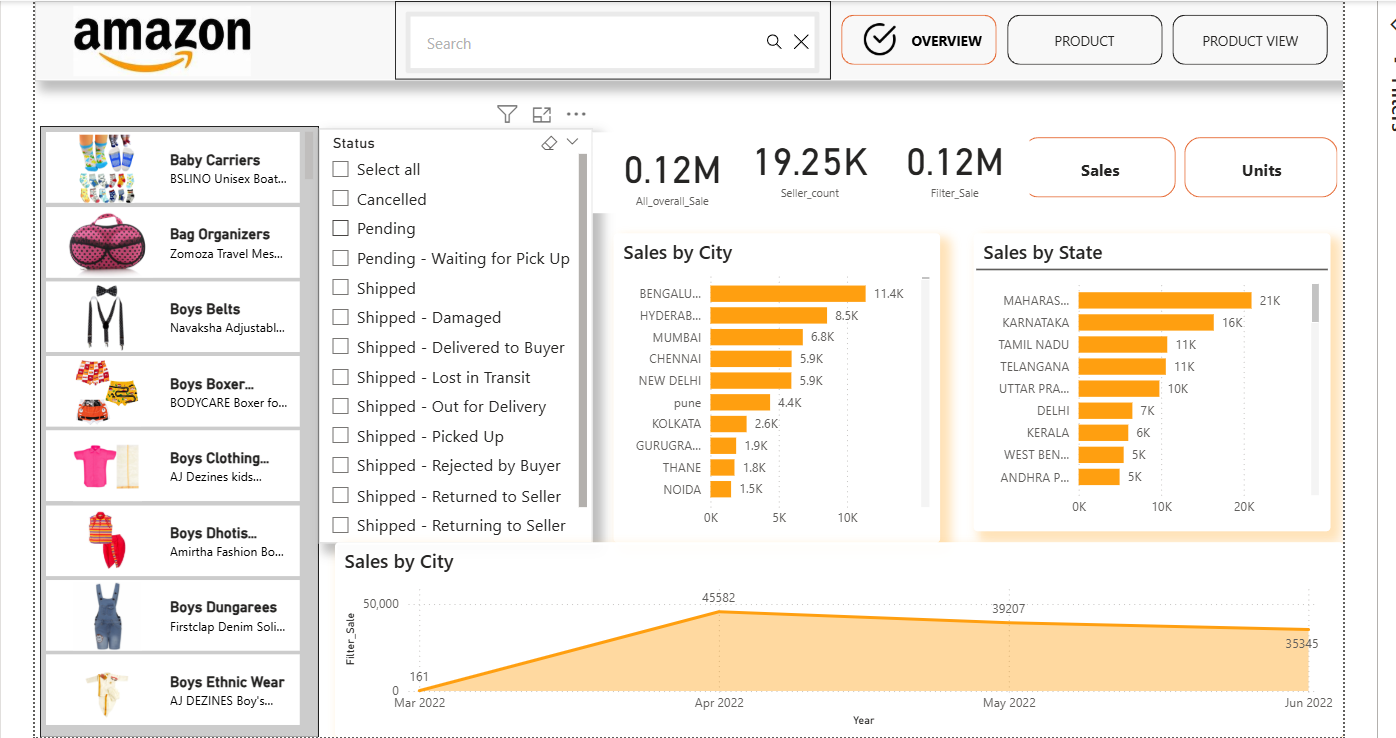

The page's visual inventory and layout, read from the dashboard file:
{"tool":"powerbi","page":{"name":"OVERVIEW","canvas":[1280,720],"ordinal":0},"visuals":[{"type":"advancedSlicerVisual","fields":{"Values":["amazon-fashion - YT.Category"]},"box":[5.5,122.1,273.1,598.3],"z":0},{"type":"shape","box":[0,0,1280.3,78.2],"z":1000},{"type":"image","box":[0,0,248.4,78.2],"z":2000},{"type":"pageNavigator","box":[789,13.7,477.5,49.4],"z":3000},{"type":"image","box":[789,13.7,75.5,48],"z":4000},{"type":"textSearchSlicerF85E2E78BE4A4D7D9F99ED75B5D71C85","fields":{"fields":["amazon-fashion - YT.Category"]},"box":[352.7,0,426.8,76.8],"z":5000},{"type":"slicer","fields":{"Values":["Amazon.Status"]},"box":[277.6,124.7,267.8,406],"z":6000},{"type":"advancedSlicerVisual","fields":{"Values":["Sale_Option.Name"]},"box":[961.1,128.4,319.2,69.7],"z":7000},{"type":"barChart","title":"Sales by City","fields":{"Y":["Amazon.Filter_Sale"],"Category":["Amazon.ship-city"]},"box":[566.2,227.4,319.2,302],"z":8000},{"type":"barChart","title":"Sales by State","fields":{"Category":["Amazon.ship-state"],"Y":["Amazon.Filter_Sale"]},"box":[918.3,227.4,348.5,291],"z":9000},{"type":"areaChart","title":"Sales by City","fields":{"Category":["Amazon.Date.Variation.Date Hierarchy.Year","Amazon.Date.Variation.Date Hierarchy.Month"],"Y":["Amazon.Filter_Sale"]},"box":[293.7,529.7,986.6,190.7],"z":10000},{"type":"card","fields":{"Values":["Amazon.All_overall_Sale"]},"box":[545.4,128.4,156.5,79.5],"z":11000},{"type":"card","fields":{"Values":["Amazon.Filter_Sale"]},"box":[826.6,122.3,146.7,75.8],"z":12000},{"type":"card","fields":{"Values":["Amazon.Seller_count"]},"box":[670.1,122.3,176.1,75.8],"z":13000}]}

Visuals, with their boxes on the page's 1280x720 design canvas (x1, y1, x2, y2). These are canvas units, not pixel positions in the 1396x738 screenshot, which may show the page scaled, cropped or inside an application window:
advancedSlicerVisual - amazon-fashion - YT.Category: x1=6 y1=122 x2=279 y2=720
shape: x1=0 y1=0 x2=1280 y2=78
image: x1=0 y1=0 x2=248 y2=78
pageNavigator: x1=789 y1=14 x2=1266 y2=63
image: x1=789 y1=14 x2=864 y2=62
textSearchSlicerF85E2E78BE4A4D7D9F99ED75B5D71C85 - amazon-fashion - YT.Category: x1=353 y1=0 x2=780 y2=77
slicer - Amazon.Status: x1=278 y1=125 x2=545 y2=531
advancedSlicerVisual - Sale_Option.Name: x1=961 y1=128 x2=1280 y2=198
"Sales by City" barChart: x1=566 y1=227 x2=885 y2=529
"Sales by State" barChart: x1=918 y1=227 x2=1267 y2=518
"Sales by City" areaChart: x1=294 y1=530 x2=1280 y2=720
card - Amazon.All_overall_Sale: x1=545 y1=128 x2=702 y2=208
card - Amazon.Filter_Sale: x1=827 y1=122 x2=973 y2=198
card - Amazon.Seller_count: x1=670 y1=122 x2=846 y2=198
